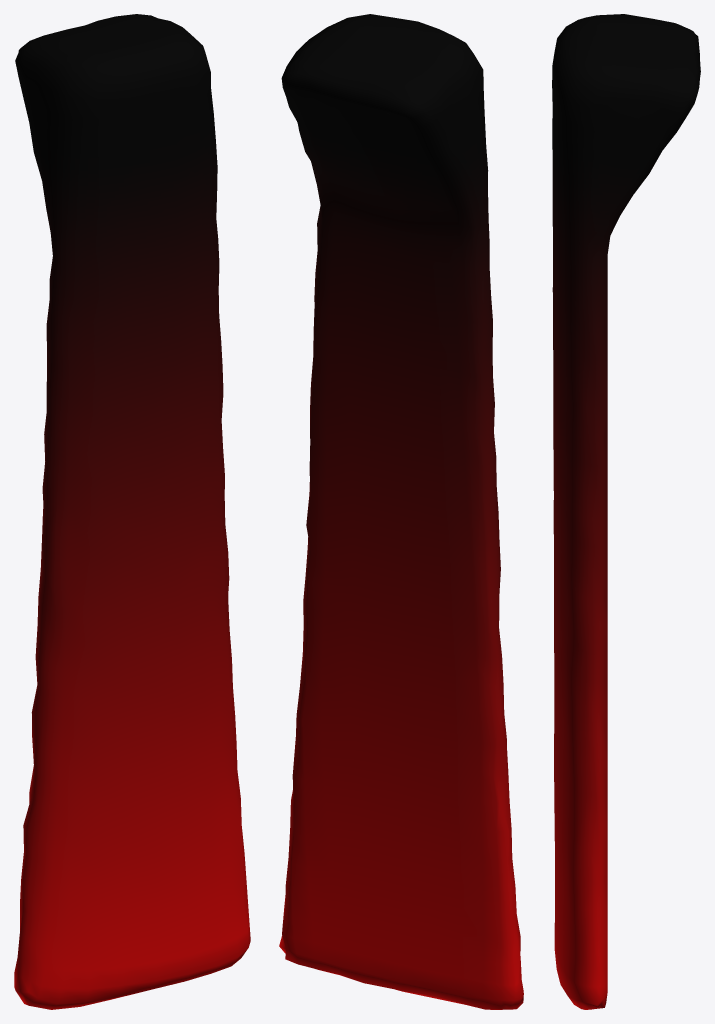
File: SM_Gen_Env_Waterfall_02.gltf
3 views of the same model, side by side, from view 1: azimuth 30°, elevation 25°; view 2: azimuth 150°, elevation 25°; view 3: azimuth 270°, elevation 25° (orthographic). The views are drawn at different scales.
Parts seen in each view (by area): view 1: SM_Gen_Env_Waterfall_02; view 2: SM_Gen_Env_Waterfall_02; view 3: SM_Gen_Env_Waterfall_02.
Part boxes in pixels (x1=…): SM_Gen_Env_Waterfall_02: x1=14, y1=14, x2=250, y2=1009; SM_Gen_Env_Waterfall_02: x1=279, y1=14, x2=523, y2=1009; SM_Gen_Env_Waterfall_02: x1=552, y1=14, x2=700, y2=1009.
Bounding box in the file's own units: 8.5 × 32.43 × 4.72.
